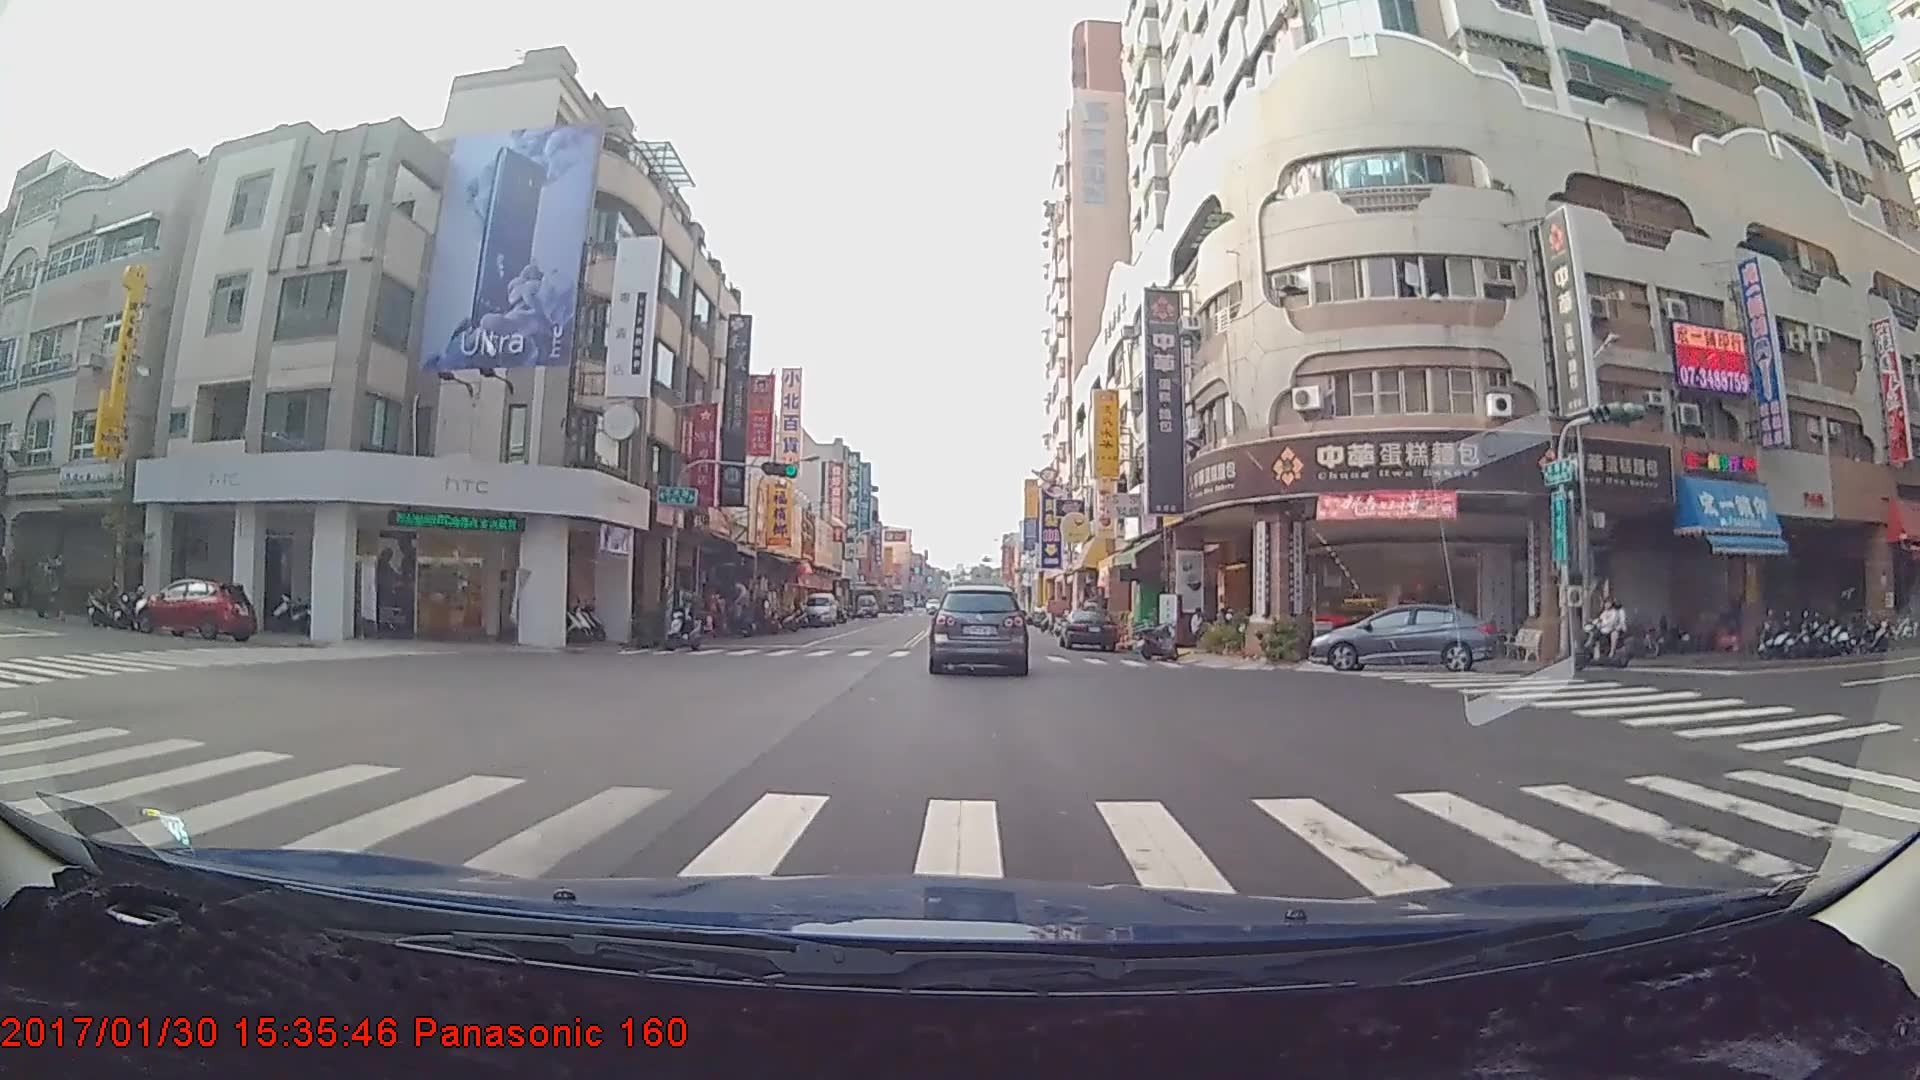rider: (1580, 594, 1639, 664), (663, 584, 707, 647)
vehicle: (1307, 600, 1491, 668), (928, 585, 1028, 675), (137, 576, 256, 642), (1058, 602, 1116, 648), (799, 589, 838, 624), (853, 588, 877, 613)
